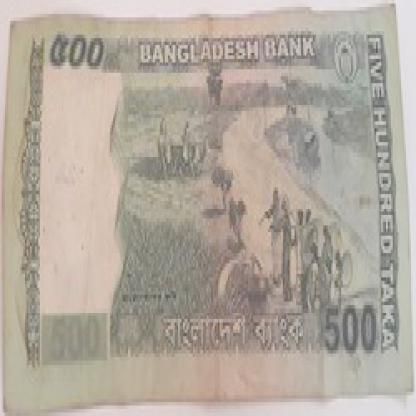500 taka: (38, 31, 130, 83)
currency: (3, 14, 414, 402)
